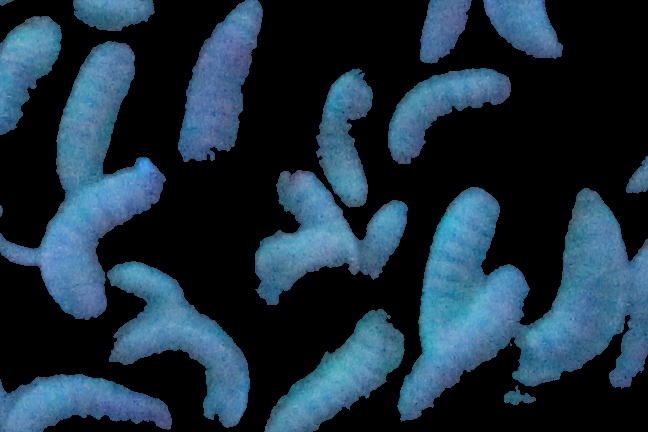larvae: (39, 152, 184, 333), (514, 181, 631, 403), (113, 306, 265, 432), (168, 1, 271, 184), (414, 268, 526, 422), (423, 179, 508, 361), (267, 320, 401, 432), (50, 35, 144, 189), (388, 65, 522, 172), (308, 48, 384, 223), (1, 8, 68, 168), (10, 372, 174, 431), (472, 1, 588, 78), (278, 174, 359, 259), (406, 1, 488, 71), (111, 254, 192, 306), (359, 194, 407, 272)
